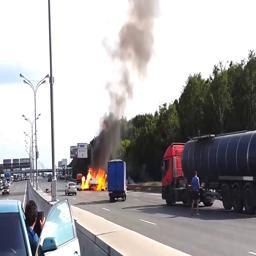fire: (83, 168, 108, 192)
